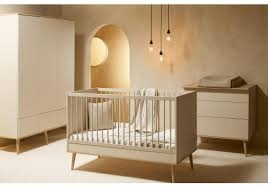crib: (67, 88, 196, 181)
